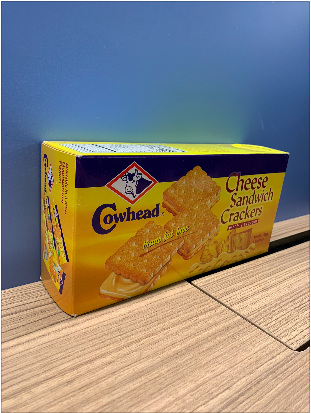Crackers_100-199g: (90, 158, 275, 261)
